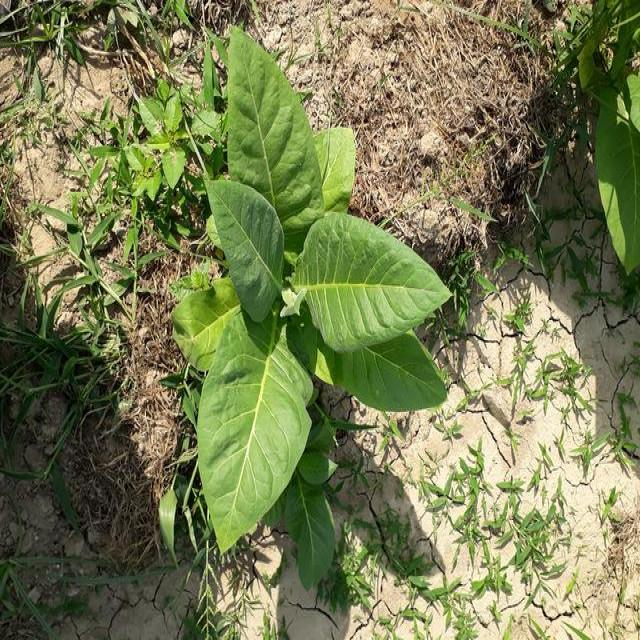crop: (175, 26, 449, 562)
